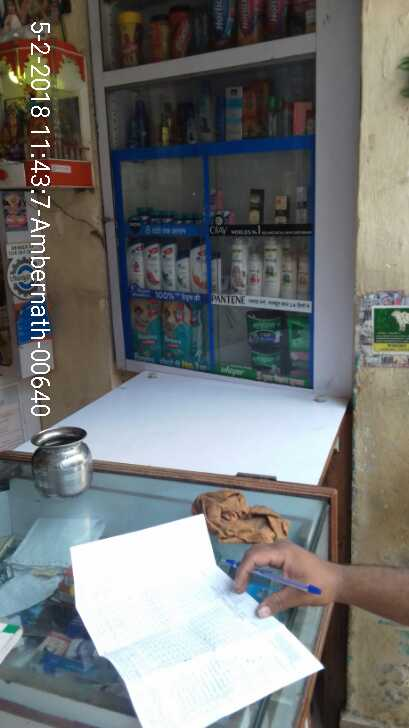beauty: (260, 240, 281, 298), (189, 239, 209, 290), (229, 237, 245, 297), (159, 237, 176, 290), (145, 237, 160, 288), (277, 253, 293, 299), (127, 241, 142, 289), (243, 252, 259, 296), (271, 192, 288, 230), (172, 253, 187, 292), (293, 188, 305, 227), (248, 187, 260, 225)
pharmacy: (161, 298, 205, 366), (131, 299, 164, 361), (134, 202, 196, 226), (241, 312, 283, 346), (248, 343, 281, 375), (288, 315, 309, 347), (288, 350, 310, 378)
